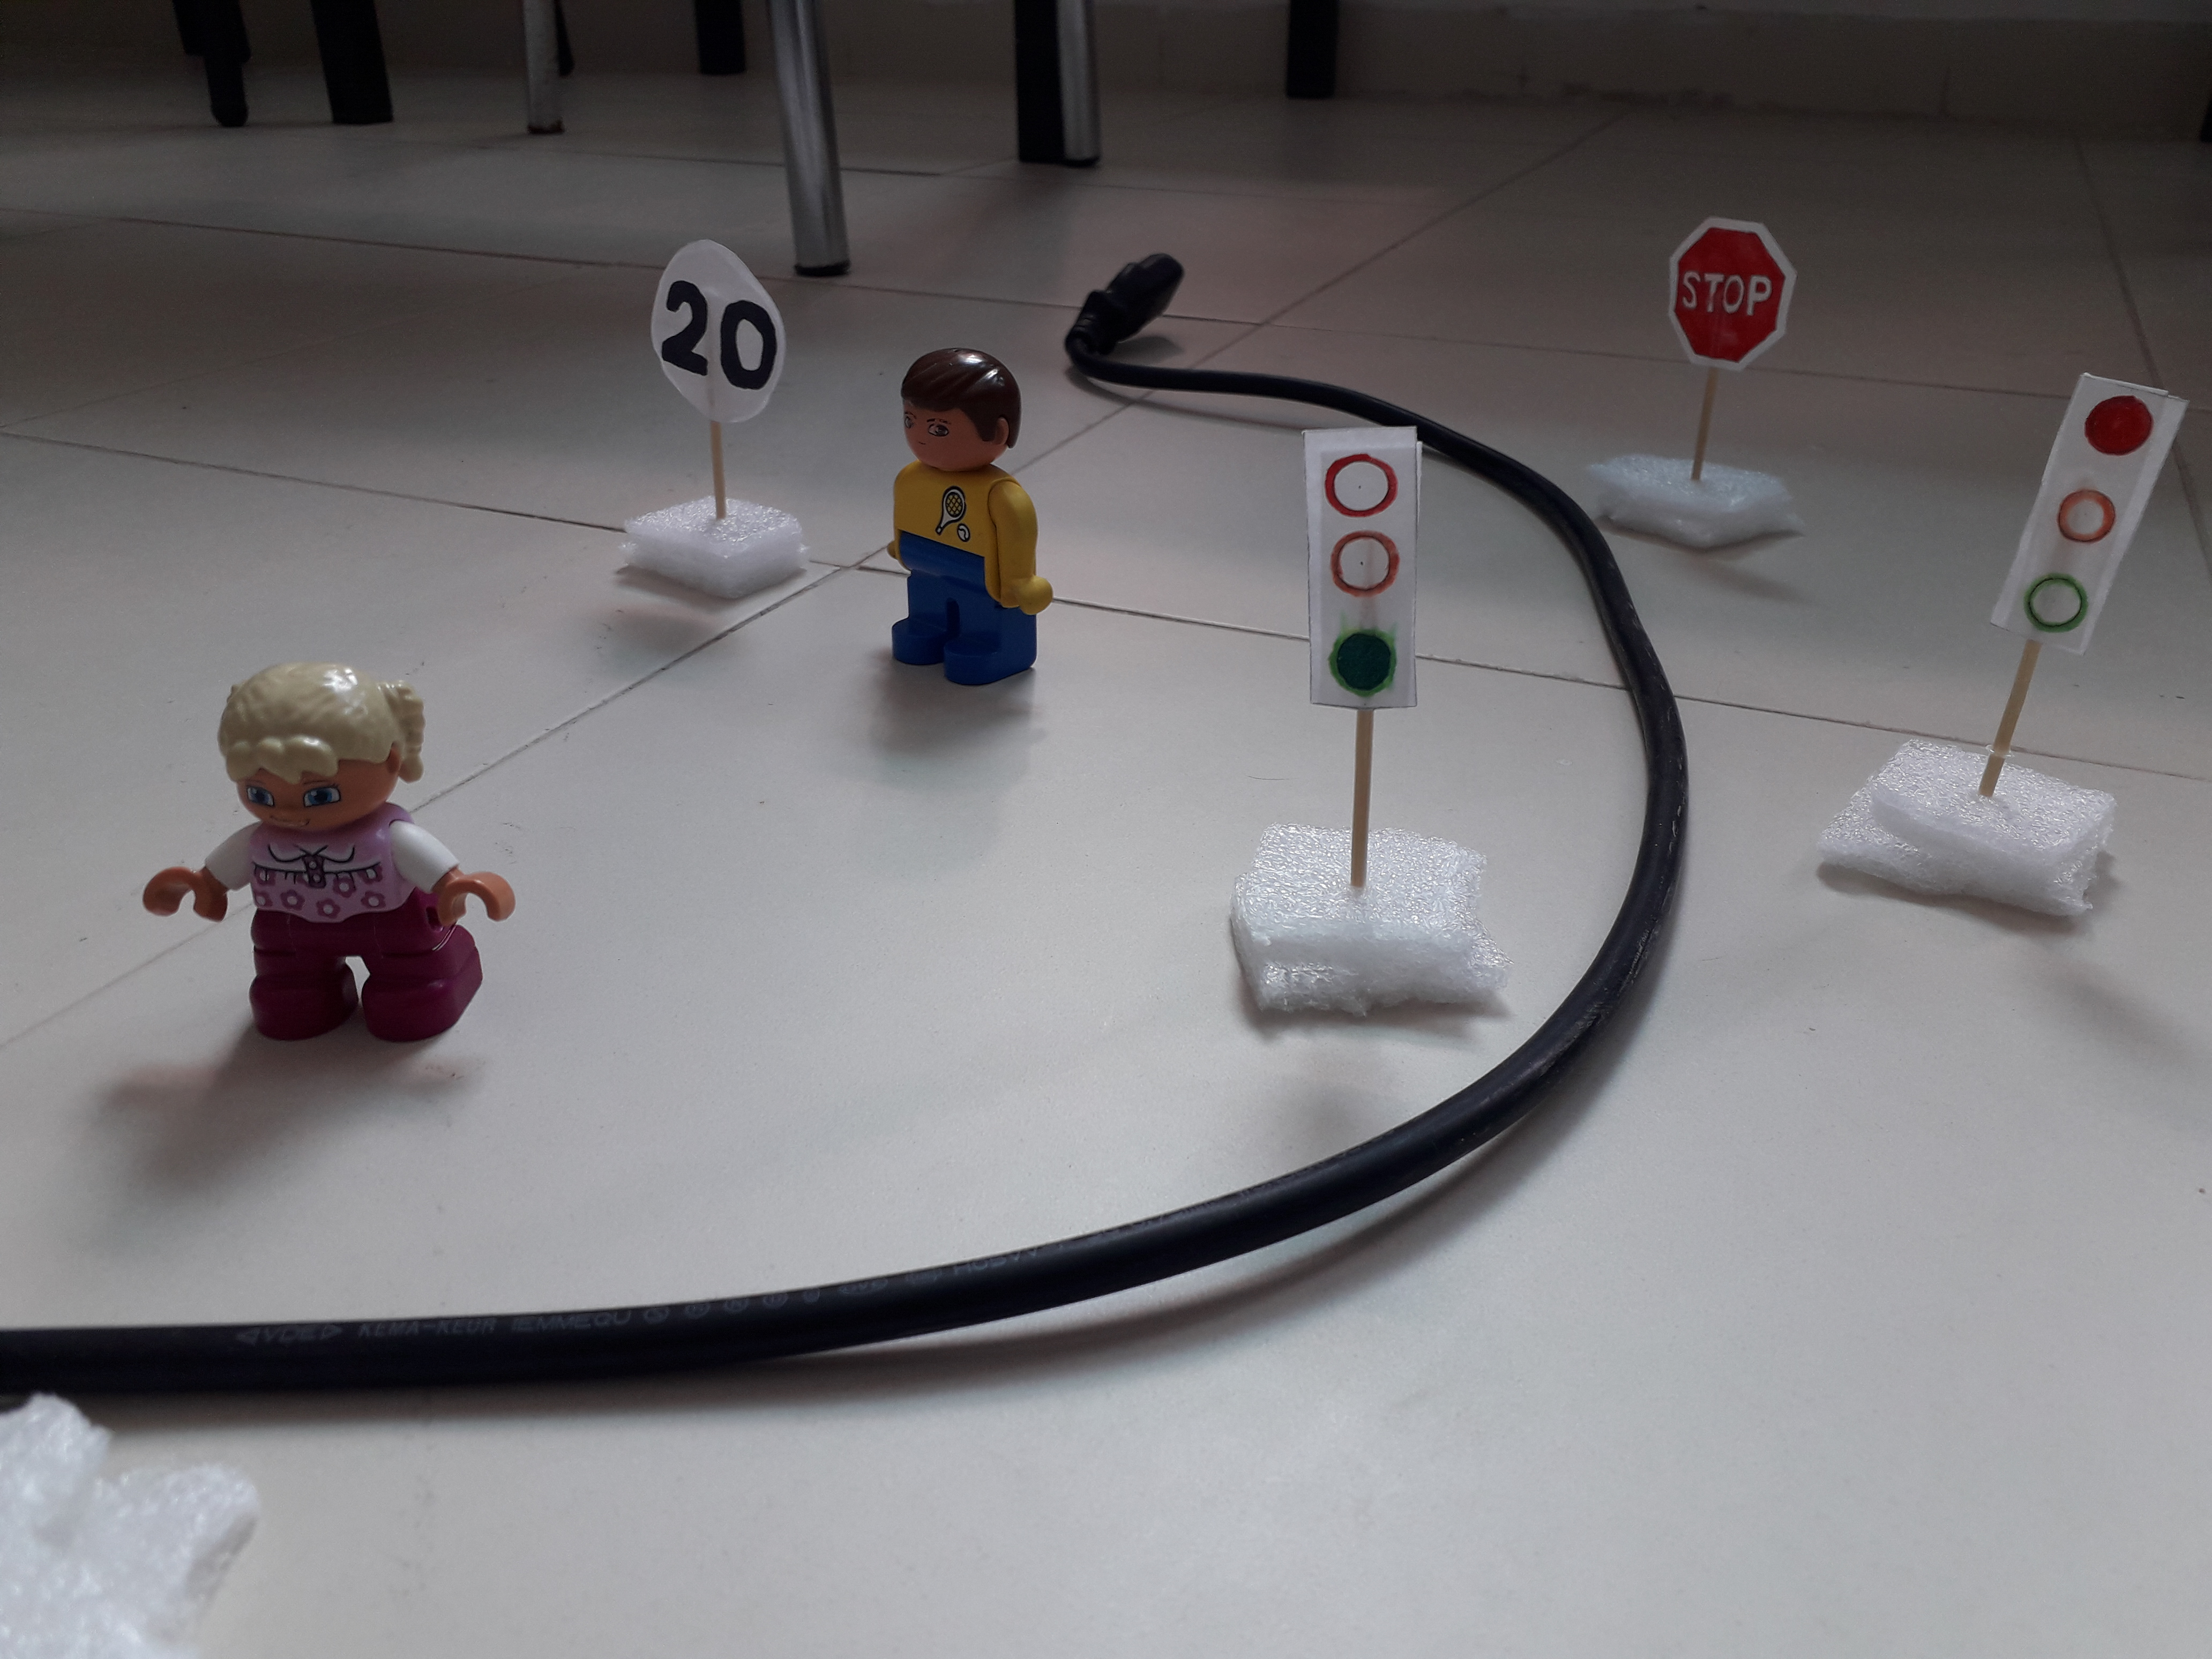20_sign: (642, 240, 796, 423)
green_light: (1306, 413, 1431, 722)
person: (143, 655, 528, 1069), (883, 337, 1046, 684)
red_light: (1982, 372, 2192, 661)
stop_sign: (1679, 216, 1804, 370)
